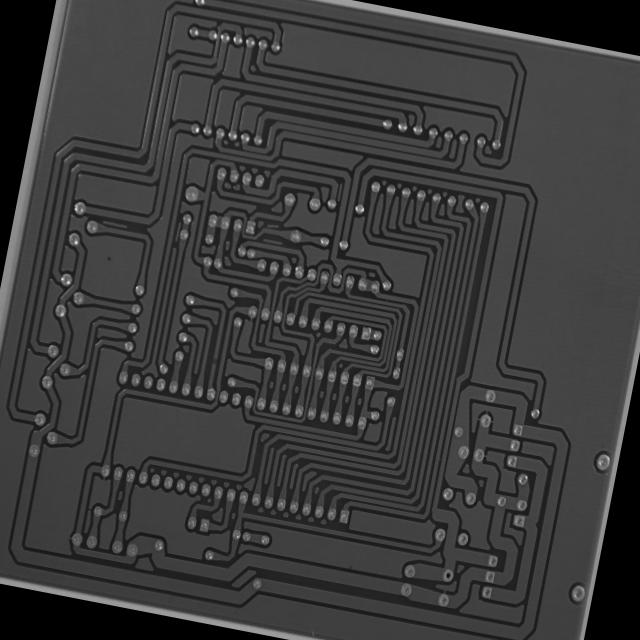spurious_copper: (98, 215, 130, 232), (333, 179, 348, 204), (172, 218, 186, 244), (260, 235, 284, 249), (264, 220, 281, 232)
